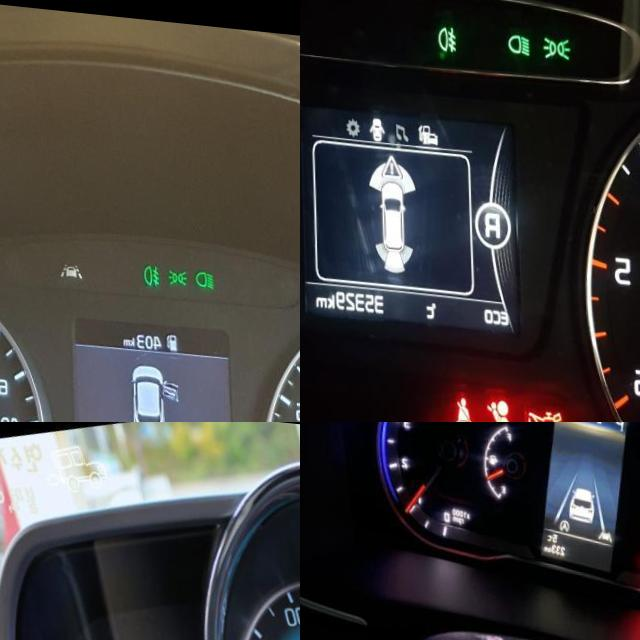FrontFogLight: (437, 15, 457, 45), (142, 256, 159, 279)
LaneCenteringOff: (60, 257, 82, 274)
Low beam: (507, 23, 530, 46), (193, 260, 215, 281)
SideLamp: (543, 24, 571, 51), (167, 259, 187, 279)
